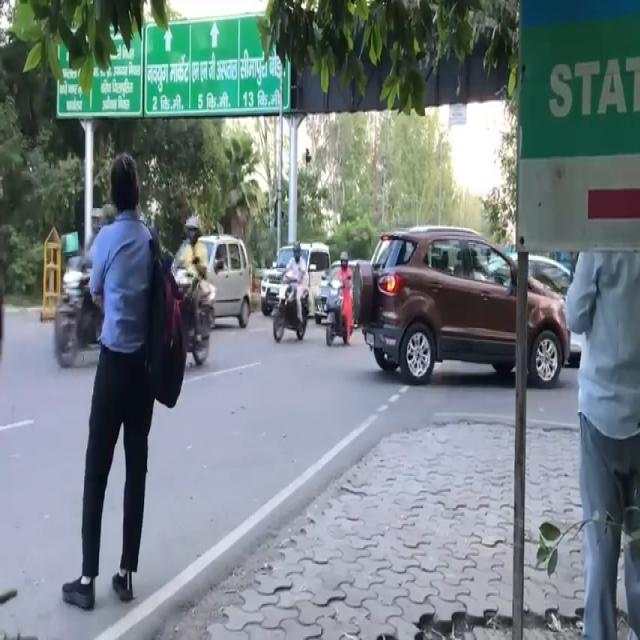MOTORCYCLE: (270, 279, 308, 339), (326, 276, 347, 347)
SUV: (355, 222, 571, 388)
